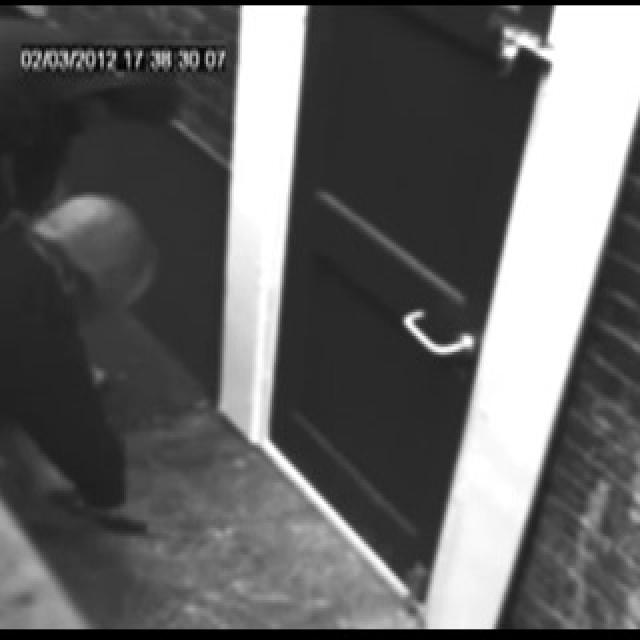thief: (17, 148, 166, 362), (27, 13, 198, 136)
